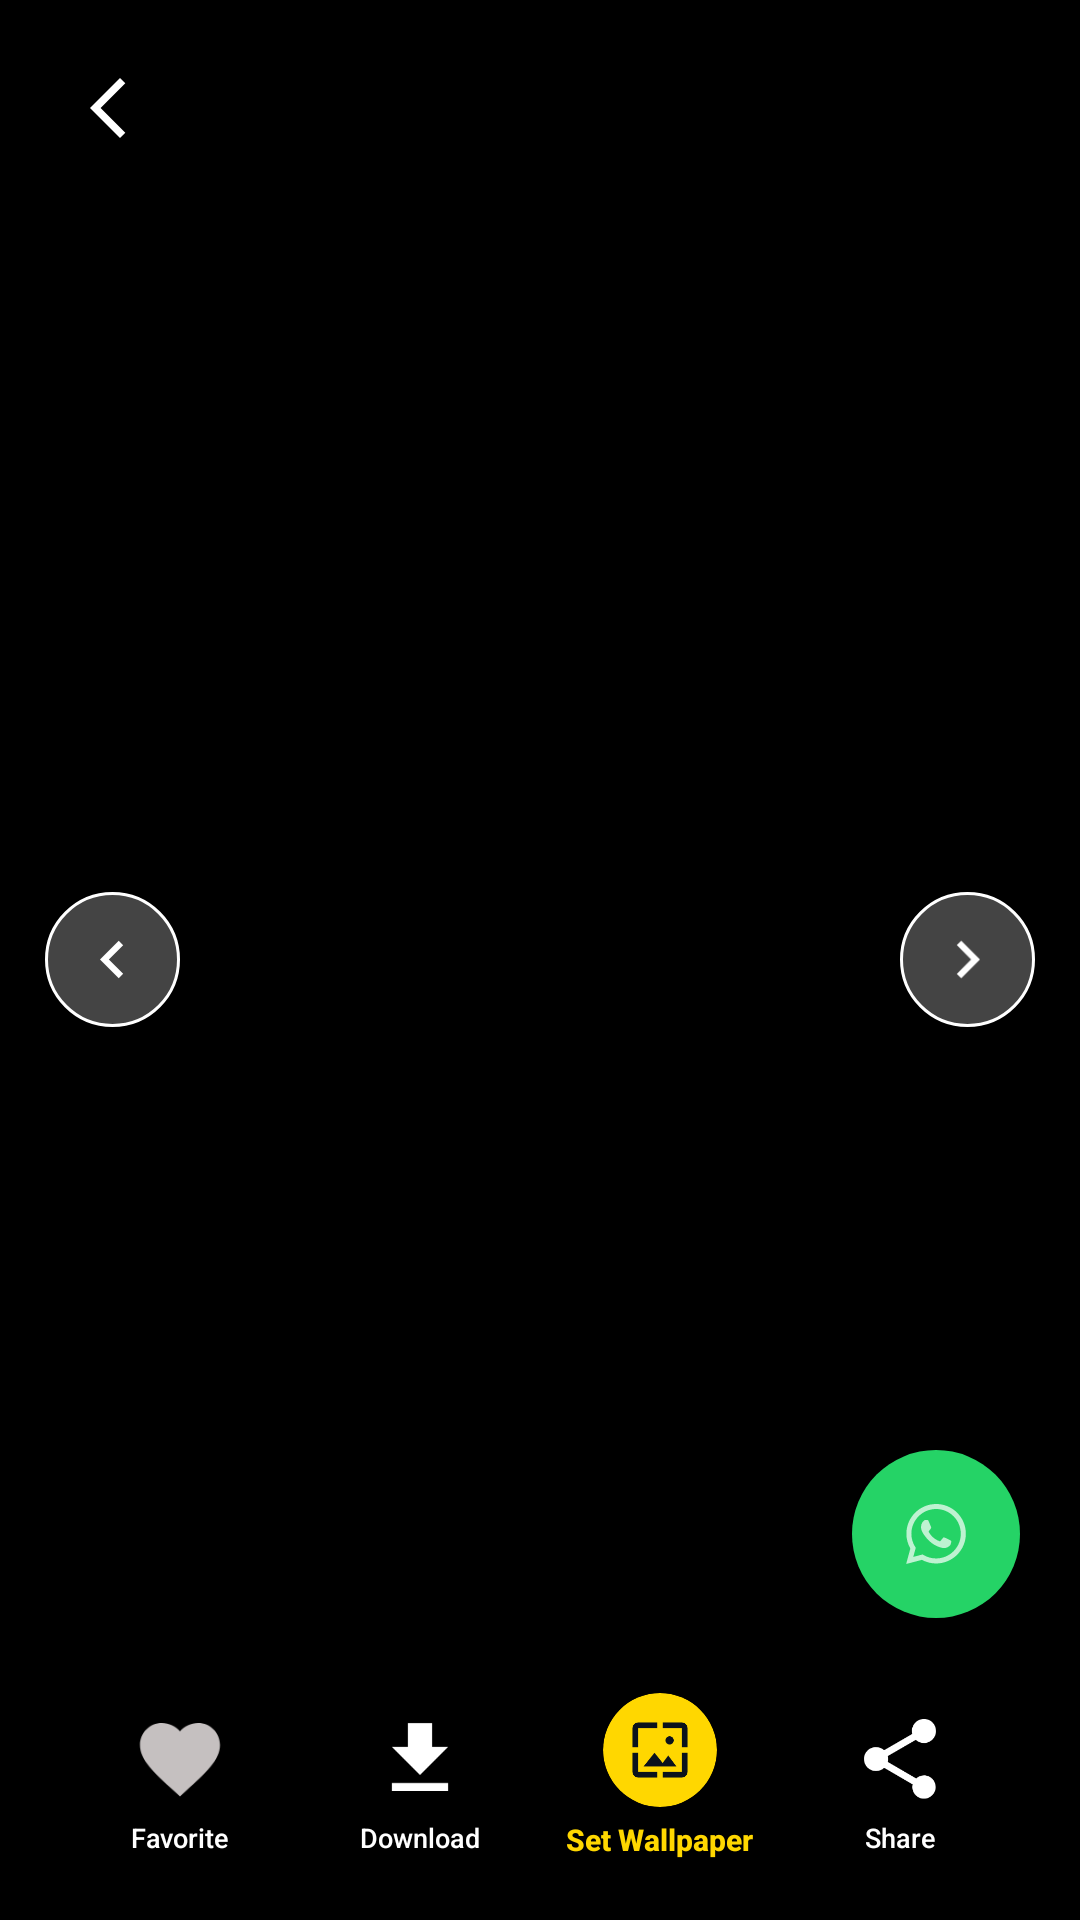

Icons on this 1080×1920 Android screen, each with the point to tap as [x,y]:
arrow left: [112,959]
arrow right: [967,959]
back: [107,108]
